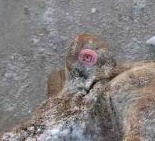text: (71, 42, 105, 73)
